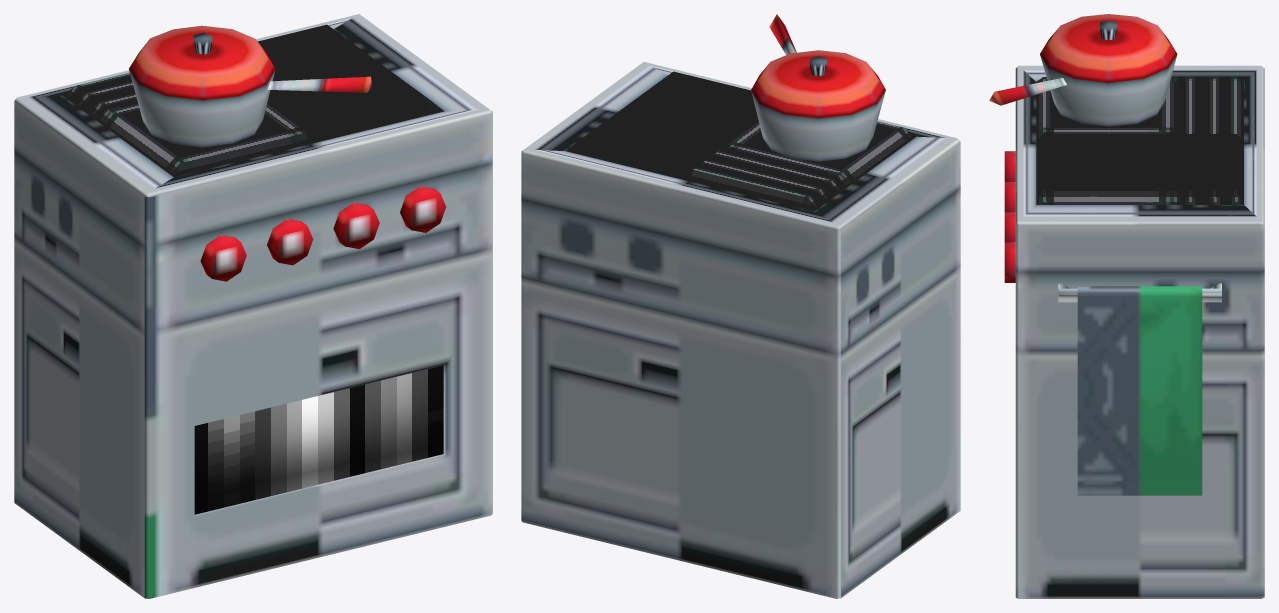
Rendered from int_oth_range.dae.
The picture shows the model from 3 angles, left to right: view 1: azimuth 30°, elevation 25°; view 2: azimuth 150°, elevation 25°; view 3: azimuth 270°, elevation 25°; orthographic projection. The views are drawn at different scales.
Visible parts, largest first — view 1: int_oth_range; view 2: int_oth_range; view 3: int_oth_range.
Boxes of the visible parts, <box> form: int_oth_range: <box>14,14,492,598</box>; int_oth_range: <box>521,14,960,598</box>; int_oth_range: <box>989,14,1264,598</box>.
Size of the model in its own units: 30.28 by 39.5 by 21.23.
3 materials, 3 textured.
